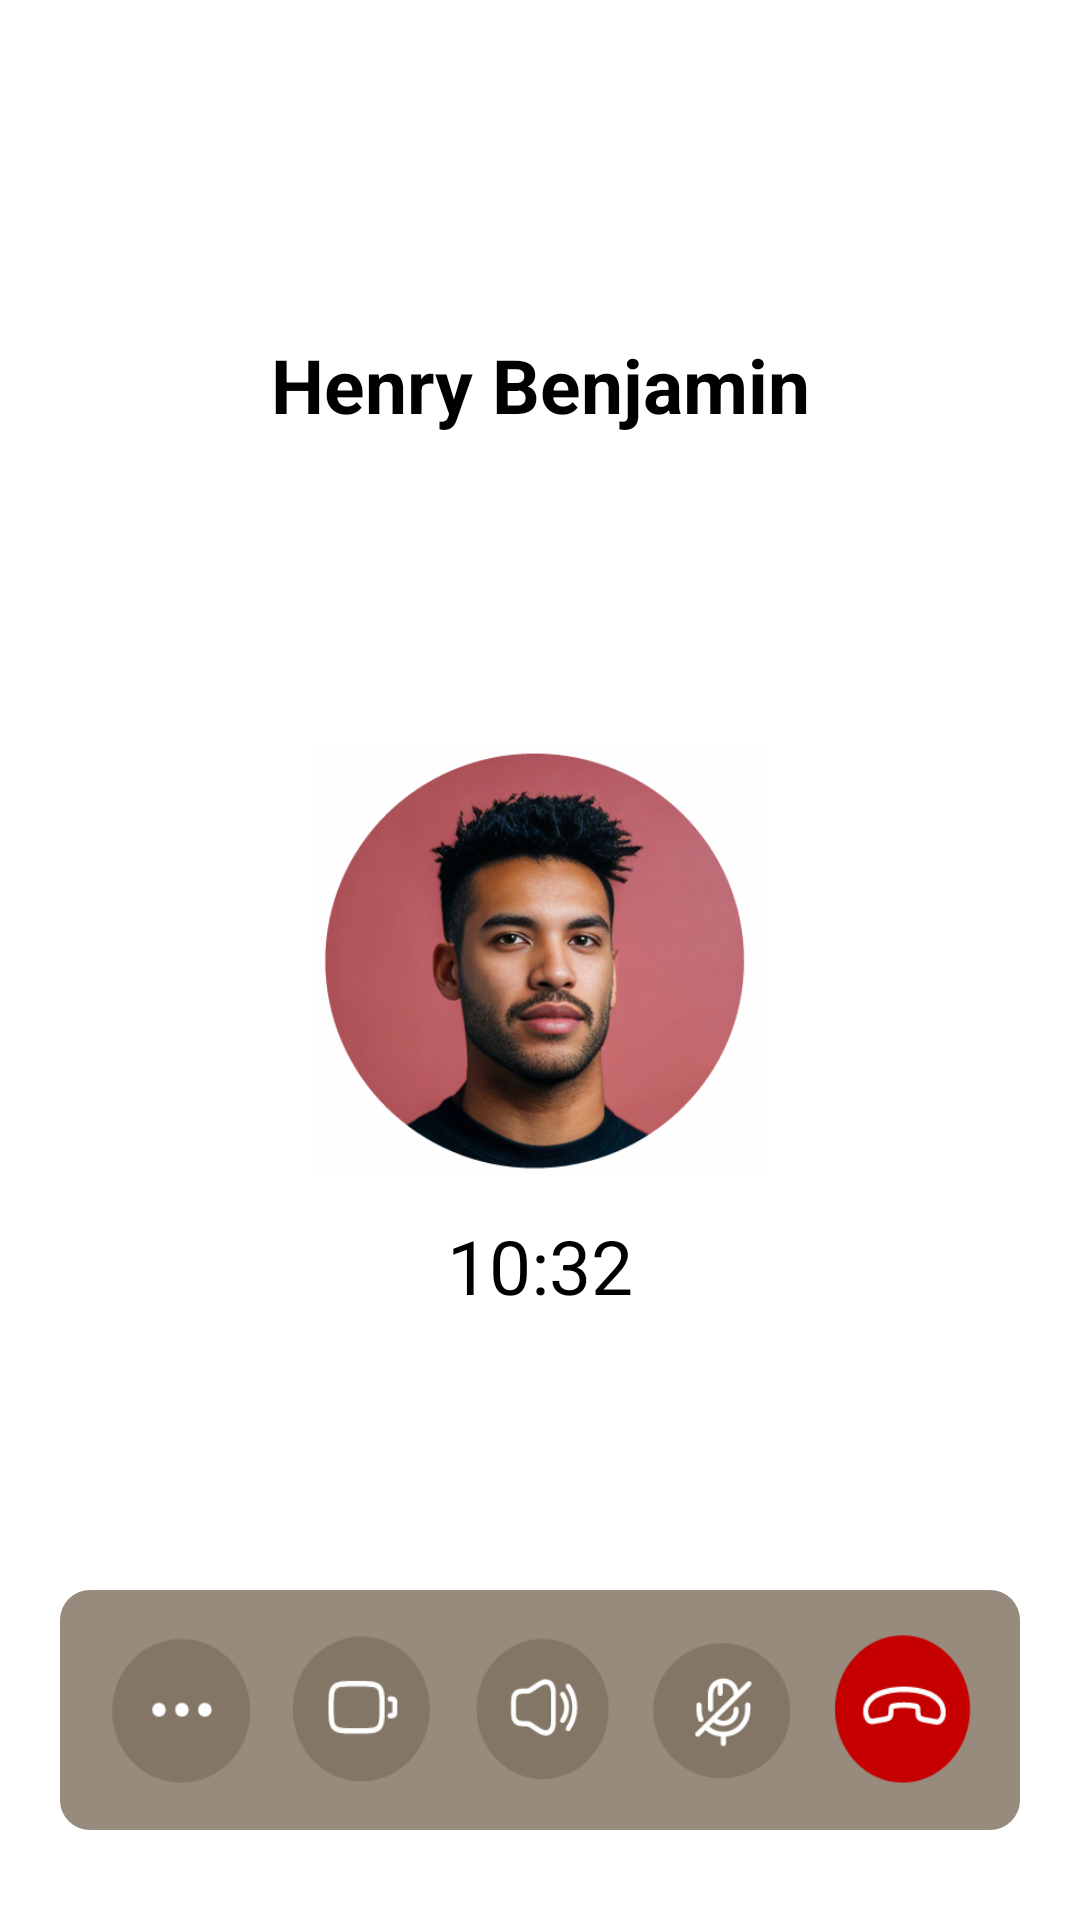

Locate icon controls on the screen. Image size 1080x1920, boxes as {"x1": x1, "y1": y1, "x2": x2, "y2": y2}.
end call: {"x1": 834, "y1": 1635, "x2": 971, "y2": 1783}
mute: {"x1": 653, "y1": 1643, "x2": 791, "y2": 1778}
optns: {"x1": 152, "y1": 1702, "x2": 212, "y2": 1717}
speaker: {"x1": 476, "y1": 1638, "x2": 609, "y2": 1779}
video call: {"x1": 293, "y1": 1636, "x2": 430, "y2": 1782}
